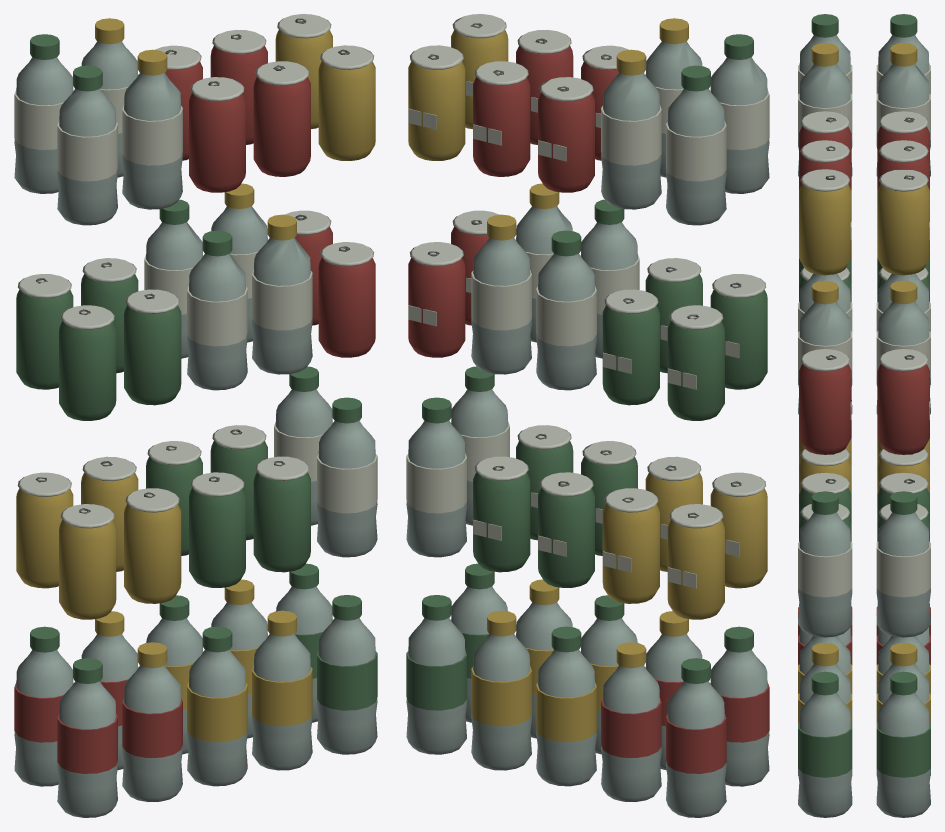
File: drinks.glb
The picture shows the model from 3 angles, left to right: view 1: azimuth 30°, elevation 25°; view 2: azimuth 150°, elevation 25°; view 3: azimuth 270°, elevation 25°; orthographic projection. The views are drawn at different scales.
Visible parts, largest first — view 1: Tianjin_drinks; view 2: Tianjin_drinks; view 3: Tianjin_drinks.
Boxes of the visible parts, x1,y1,x2,y2 form: Tianjin_drinks: (14, 14, 377, 817); Tianjin_drinks: (406, 14, 769, 817); Tianjin_drinks: (798, 14, 930, 817).
Size of the model in its own units: 0.462 by 1.04 by 0.186.
